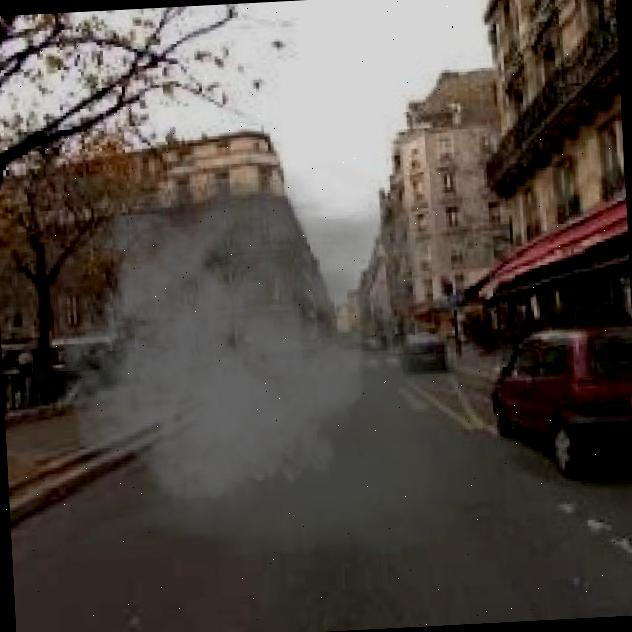smoke: (40, 155, 486, 571)
